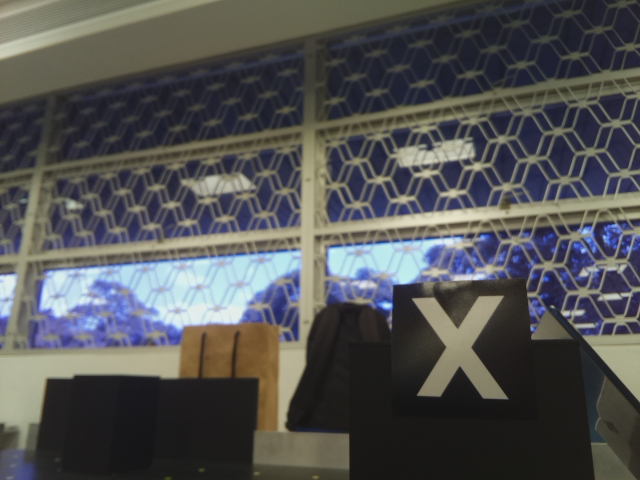x: (405, 292, 517, 404)
